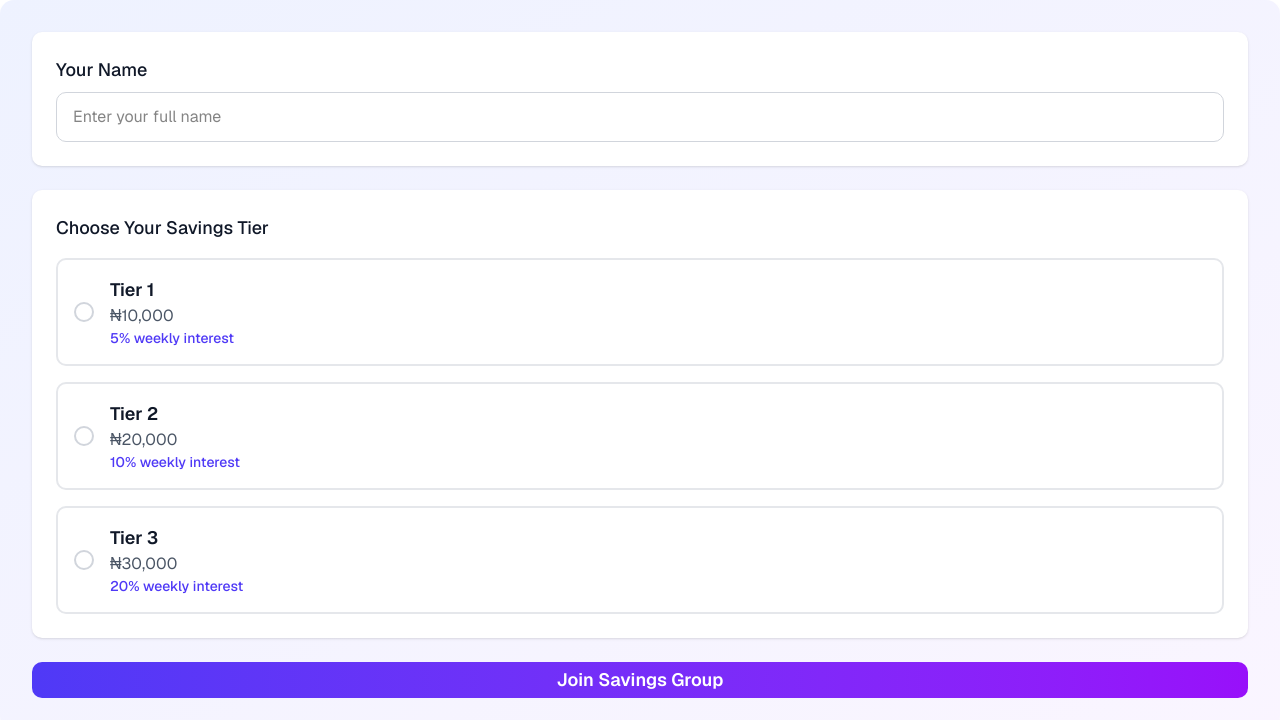
Test: RegistrationForm › validates name input
Click the button "Join Savings Group".
click(640, 680)  # box [32, 662, 1248, 698]
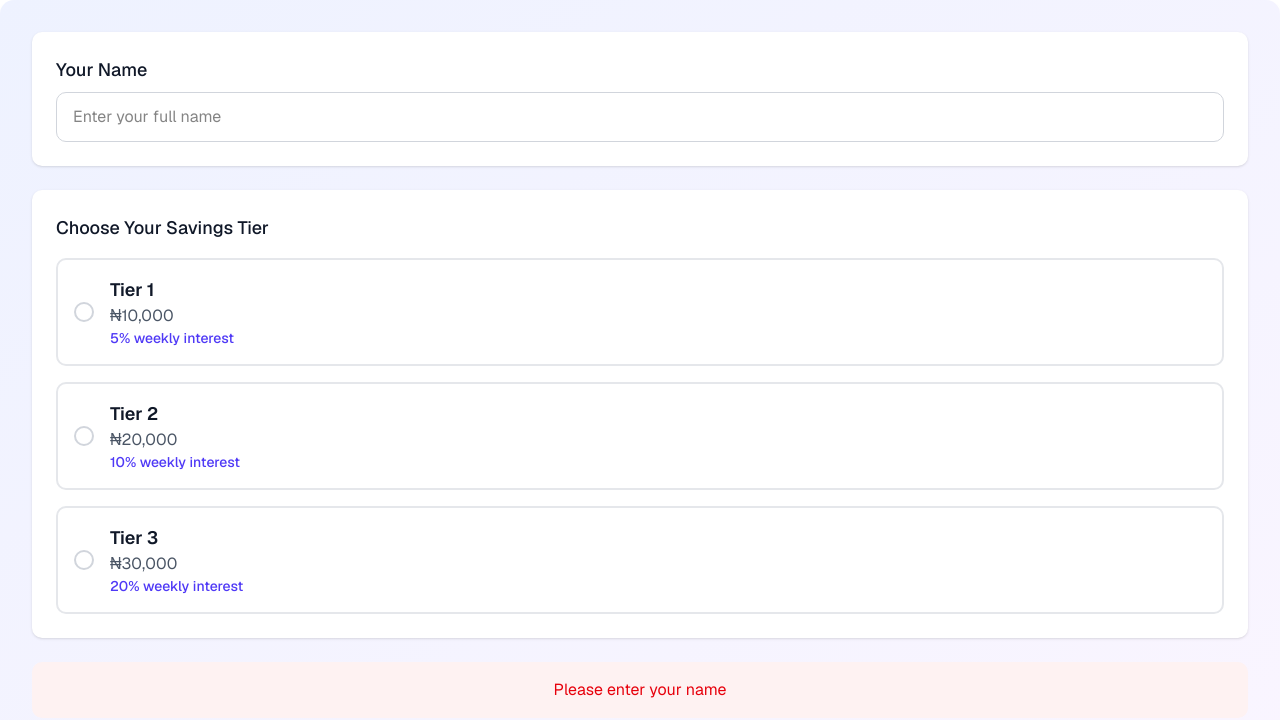
Check: the text "Please enter your name" is shown, box [32, 662, 1248, 718]
